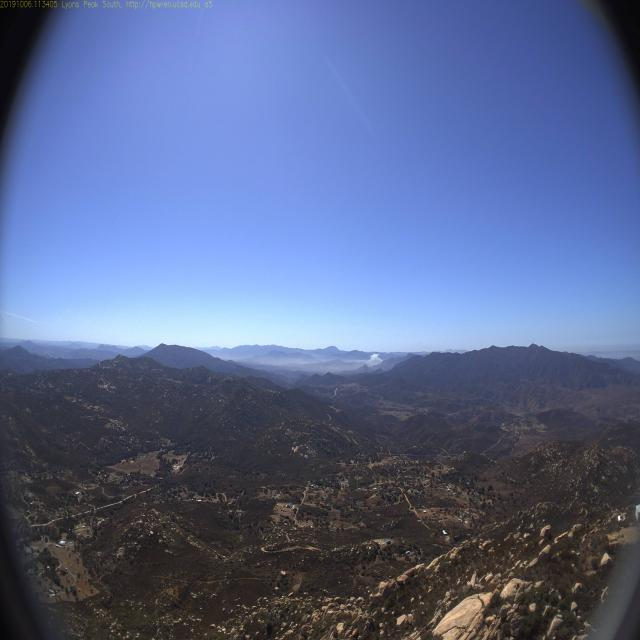smoke: (366, 350, 384, 366)
